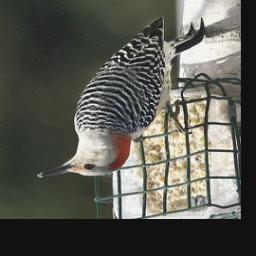Woodpecker: (37, 17, 206, 179)
